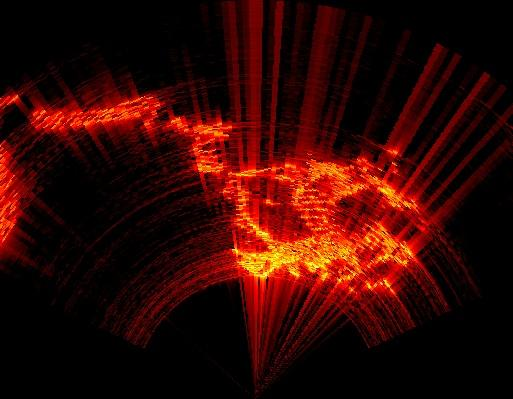shipwreck: (228, 160, 415, 278), (29, 96, 160, 131), (169, 117, 231, 177), (93, 97, 160, 123), (367, 272, 398, 293)
